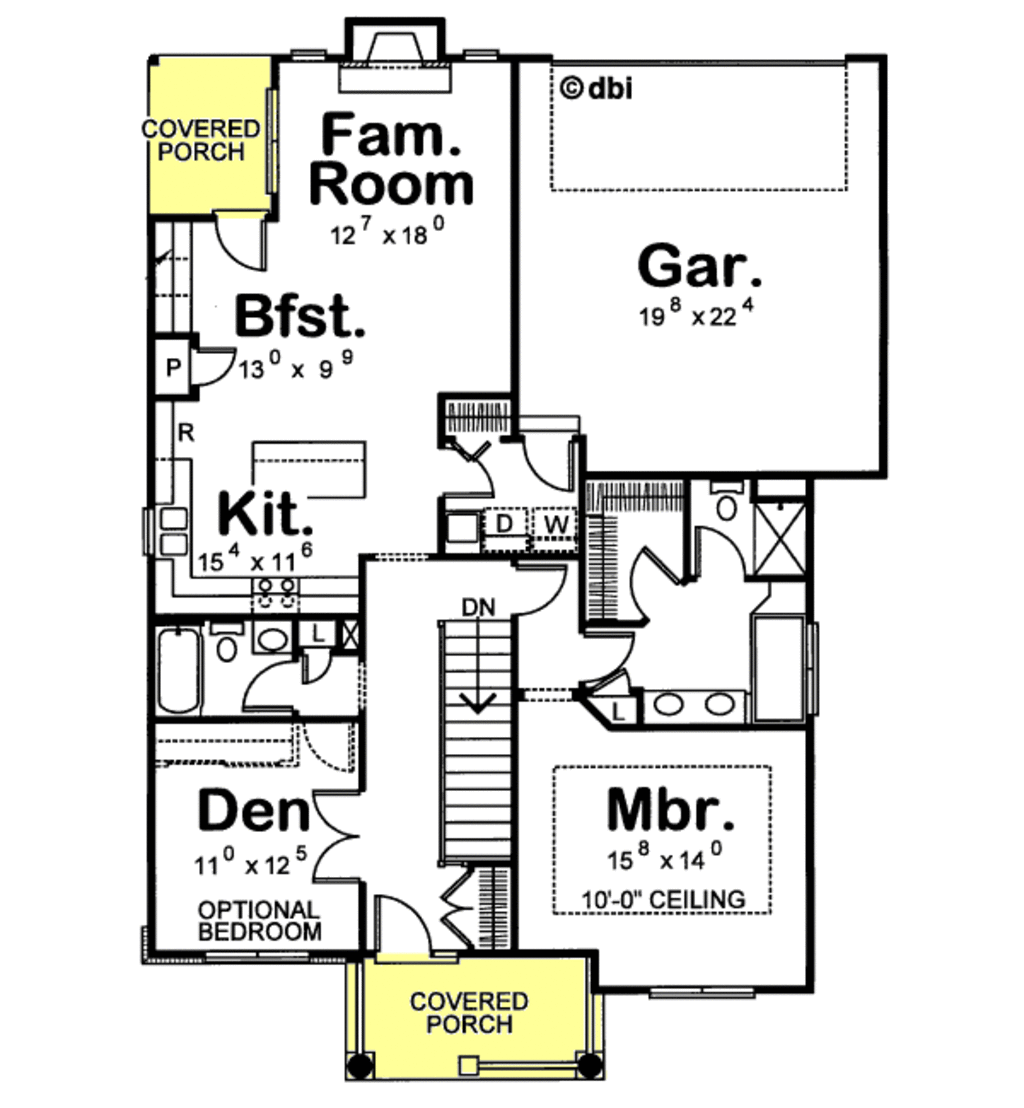door: (198, 205, 285, 274), (309, 783, 361, 887), (686, 524, 757, 600), (622, 534, 680, 619), (371, 888, 436, 961), (442, 433, 503, 507), (439, 855, 484, 955), (180, 337, 248, 395), (234, 657, 299, 714), (512, 560, 575, 617), (521, 437, 575, 497), (583, 632, 638, 684), (299, 726, 358, 773), (298, 643, 339, 689)
large_sink: (700, 474, 750, 530), (209, 612, 252, 664)
small_sink: (647, 687, 755, 731), (253, 616, 299, 663)
stairs: (431, 607, 517, 871)
tub: (147, 618, 217, 718)
twin_sink: (157, 505, 206, 561)
window: (208, 940, 304, 969), (639, 980, 761, 996), (459, 45, 514, 72)
